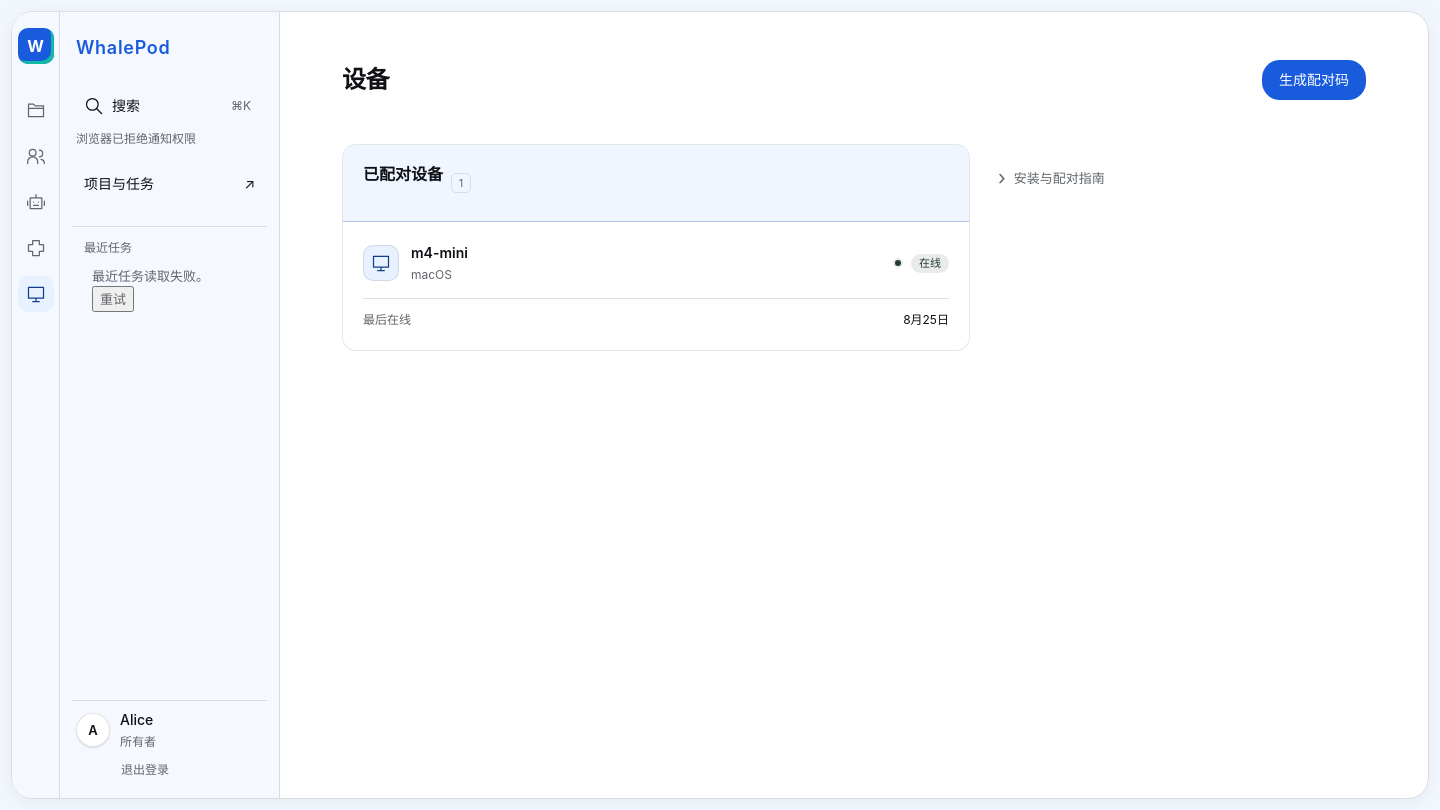
Test case: ReactBits motion experience: host state survives presentation transitions › an existing online device cannot complete a newly issued pairing journey
Click the button "生成配对码": click(1314, 80) x1=1262 y1=60 x2=1366 y2=100
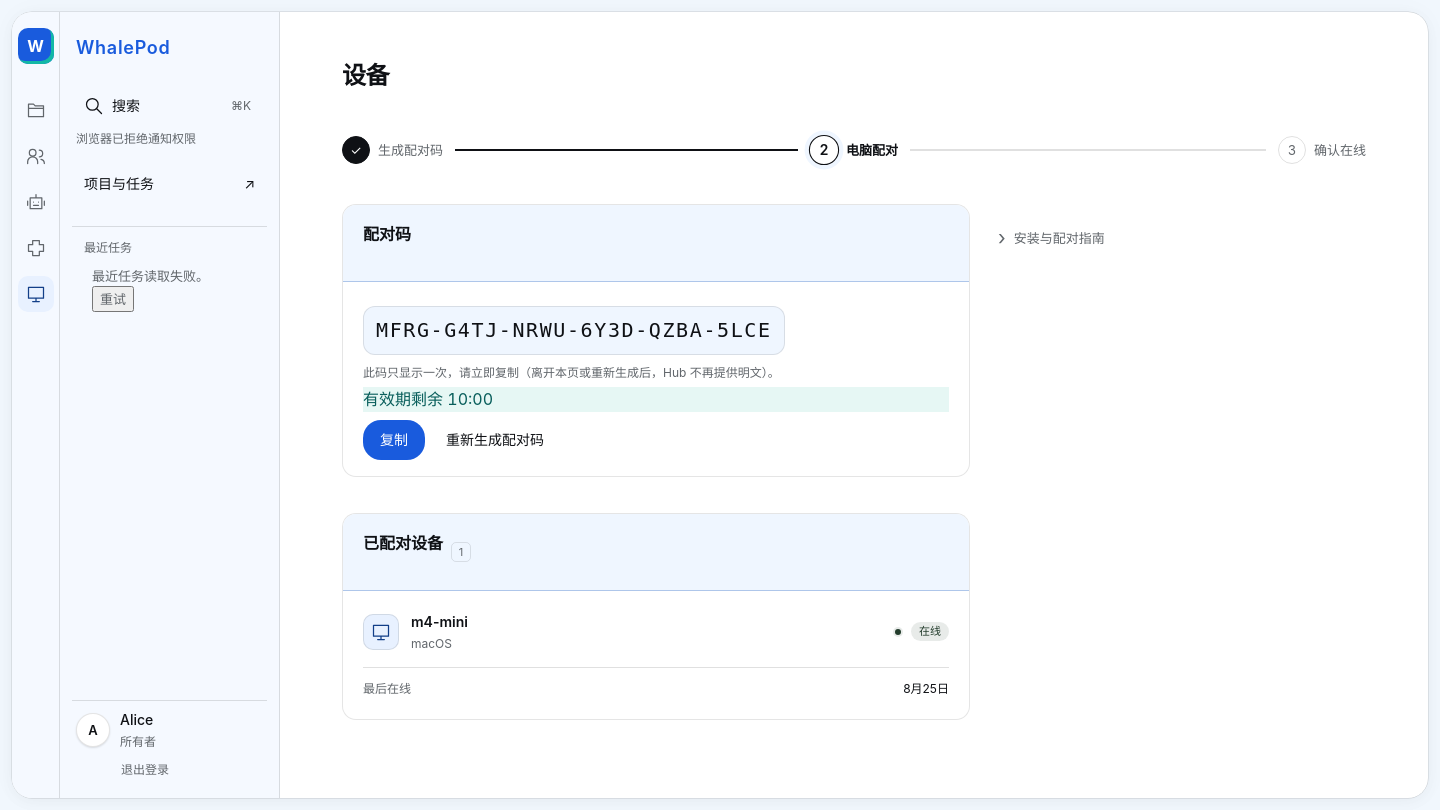
Expected: the element with test id "pairing-code" is shown, x1=363 y1=306 x2=785 y2=355
Expected: the element showing "2 电脑配对" is shown, x1=810 y1=136 x2=898 y2=164
